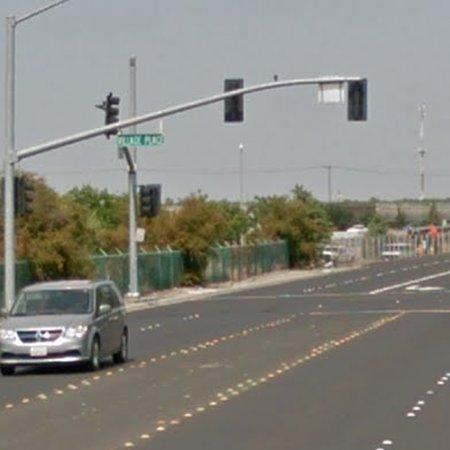traffic lights: (225, 79, 244, 91)
